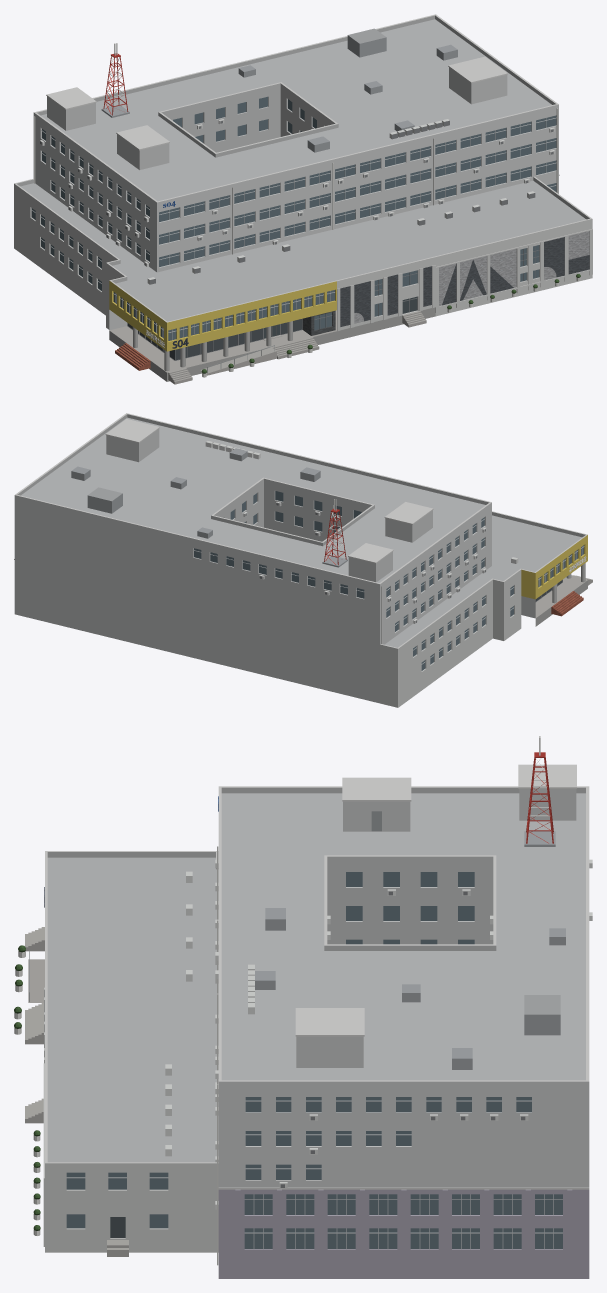
3 views of the same model, one above another, from view 1: azimuth 30°, elevation 25°; view 2: azimuth 150°, elevation 25°; view 3: azimuth 270°, elevation 25° (orthographic). The views are drawn at different scales.
Parts seen in each view (by area): view 1: s04__roof, s04__bodyWhite-wall, s04__roofLow, s04__glass, s04__muralWhite-wall, s04__coping-wall, s04__stripWhite-wall, s04__bodyInner-wall, s04__wingYellow-wall, s04__muralDark-brick, s04__penthouse-wall, s04__parapetIn-wall (+13 smaller); view 2: s04__bodyWhite-wall, s04__roof, s04__stripWhite-wall, s04__roofLow, s04__coping-wall, s04__bodyInner-wall, s04__glass, s04__parapetIn-wall, s04__penthouse-wall, s04__mechGrey, s04__wingYellow-wall, s04__acUnit (+4 smaller); view 3: s04__roof, s04__roofLow, s04__bodyWhite-wall, s04__lilac-wall, s04__glass, s04__muralWhite-wall, s04__coping-wall, s04__bodyInner-wall, s04__penthouse-wall, s04__parapetIn-wall, s04__mechGrey, s04__stair-stone (+5 smaller).
Boxes of the visible parts, x1,y1,x2,y2 form: s04__roof: [41, 19, 551, 201]; s04__bodyWhite-wall: [33, 104, 558, 330]; s04__roofLow: [20, 180, 585, 321]; s04__glass: [31, 96, 556, 340]; s04__muralWhite-wall: [337, 219, 592, 331]; s04__coping-wall: [14, 14, 592, 322]; s04__stripWhite-wall: [14, 183, 124, 329]; s04__bodyInner-wall: [161, 83, 335, 152]; s04__wingYellow-wall: [109, 281, 336, 351]; s04__muralDark-brick: [340, 237, 589, 326]; s04__penthouse-wall: [47, 67, 507, 169]; s04__parapetIn-wall: [17, 15, 589, 283]; s04__bodyWhite-wall: [14, 495, 535, 703]; s04__roof: [21, 417, 485, 582]; s04__stripWhite-wall: [380, 570, 521, 707]; s04__roofLow: [384, 515, 581, 647]; s04__coping-wall: [14, 413, 587, 648]; s04__bodyInner-wall: [214, 478, 371, 541]; s04__glass: [194, 491, 583, 670]; s04__parapetIn-wall: [17, 414, 585, 546]; s04__penthouse-wall: [106, 429, 432, 582]; s04__mechGrey: [71, 448, 347, 567]; s04__wingYellow-wall: [521, 535, 587, 599]; s04__acUnit: [205, 441, 518, 623]; s04__roof: [221, 793, 585, 1080]; s04__roofLow: [47, 857, 218, 1162]; s04__bodyWhite-wall: [218, 1081, 589, 1187]; s04__lilac-wall: [218, 1189, 589, 1278]; s04__glass: [66, 872, 562, 1248]; s04__muralWhite-wall: [43, 987, 218, 1252]; s04__coping-wall: [45, 764, 589, 1189]; s04__bodyInner-wall: [327, 856, 493, 944]; s04__penthouse-wall: [296, 789, 576, 1067]; s04__parapetIn-wall: [47, 787, 585, 950]; s04__mechGrey: [255, 831, 565, 1069]; s04__stair-stone: [25, 927, 128, 1256].
Bounding box in the file's own units: 77.64 × 31.4 × 55.84.
Materials: 44 (4 with a texture image).
